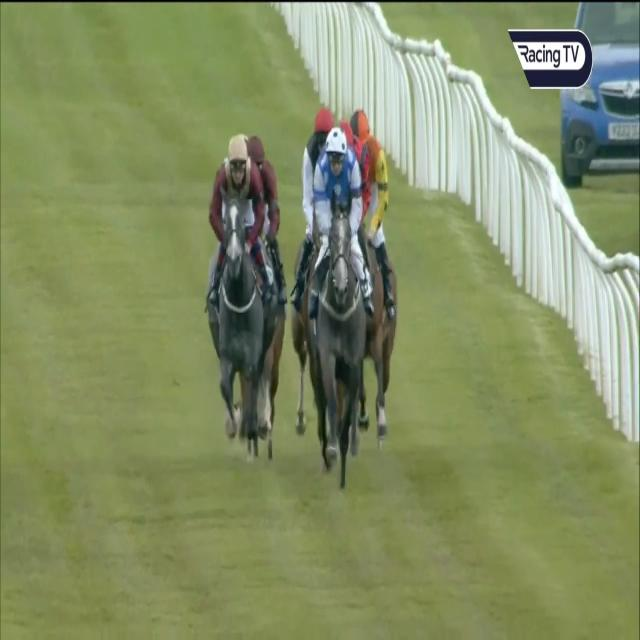horses-racing: (345, 99, 419, 451), (309, 122, 372, 473), (207, 132, 260, 490), (295, 91, 334, 486), (247, 131, 286, 493), (336, 118, 375, 325), (388, 565, 399, 579)
